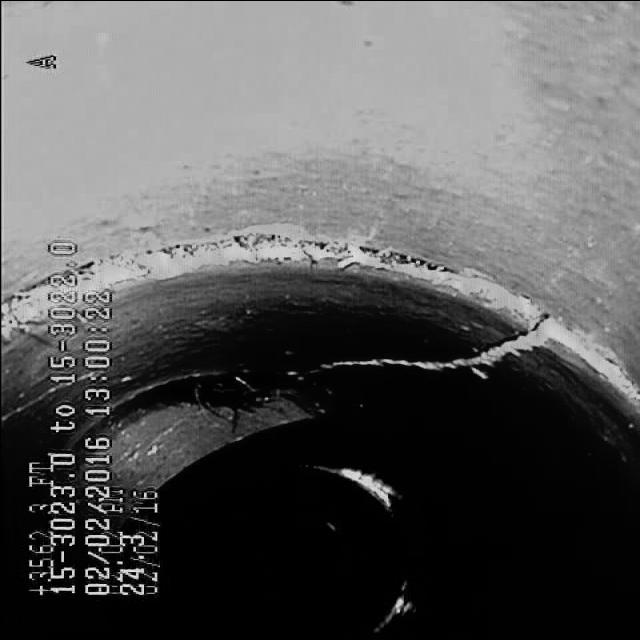Crack: (288, 304, 576, 404)
